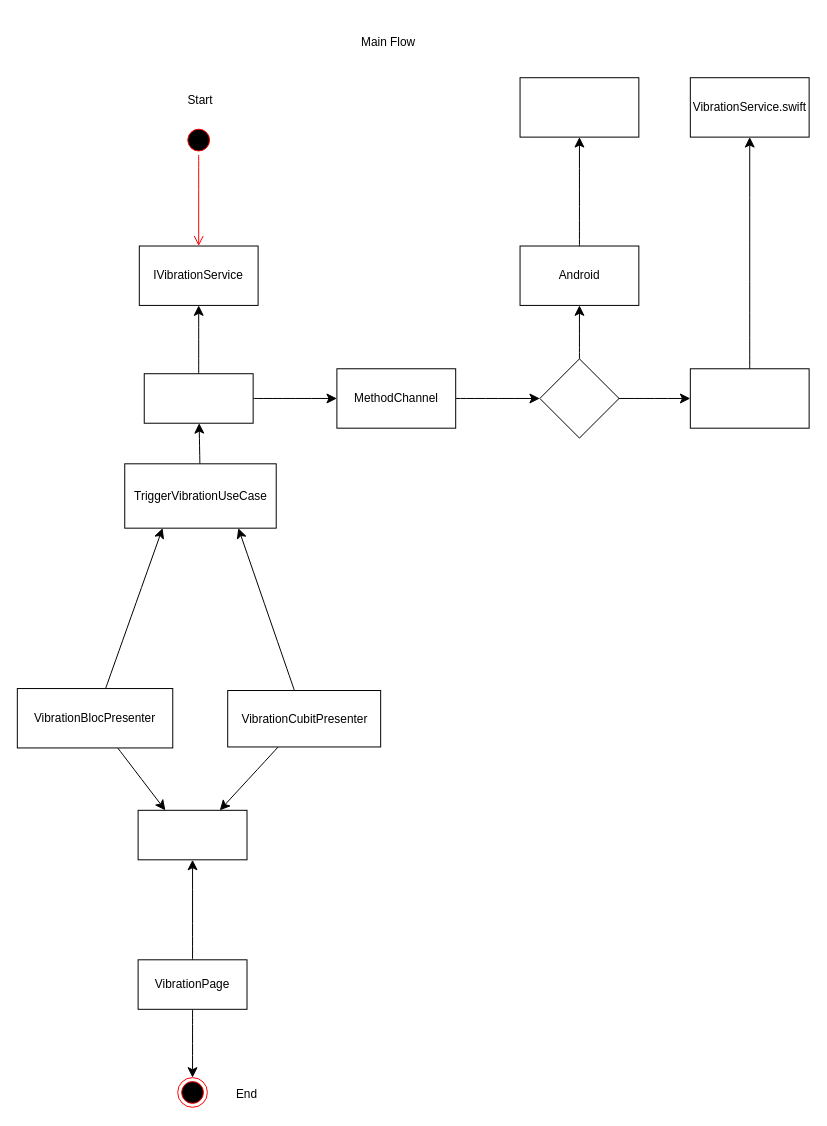
Some shapes in this 827 by 1126 pixel diagram are drawn without their labels. Each missing label, with the box of its shape:
iOS: (689, 368, 809, 428)
VibrationService: (143, 373, 253, 423)
VibrationService.kt: (519, 77, 639, 137)
VirabtionPresenter: (137, 809, 247, 860)
